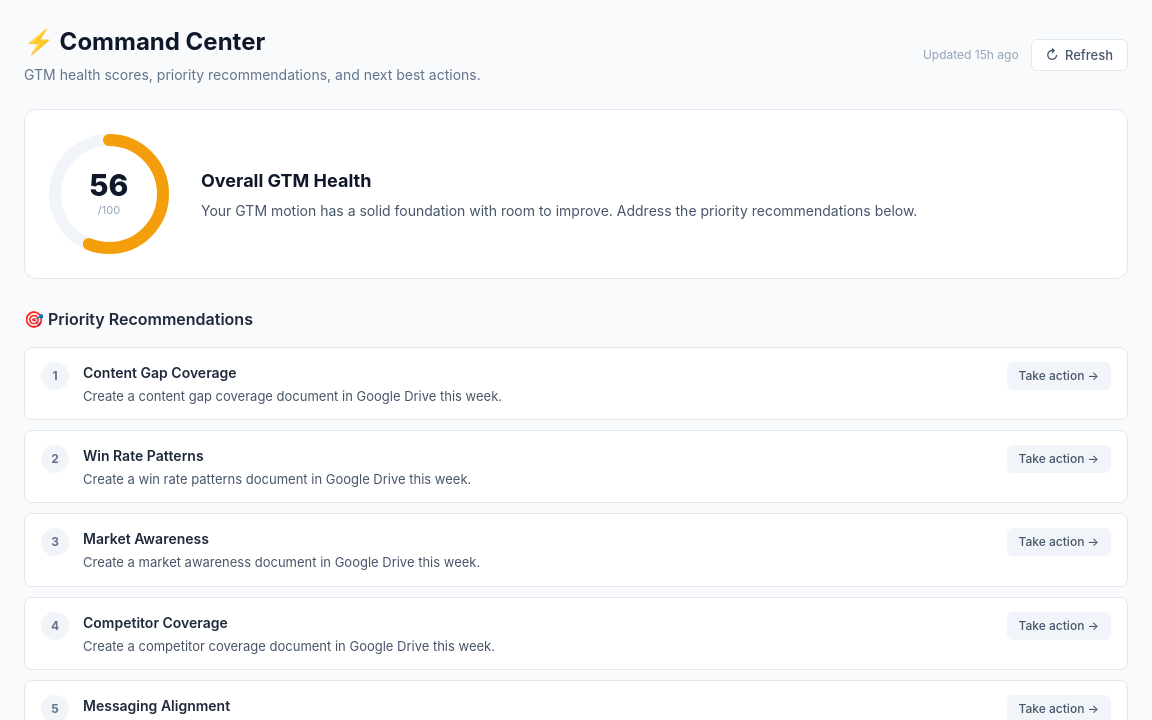
Test: Refresh › disables refresh button while refreshing
The width and height of the screenshot is (1152, 720).
What coordinates should you click on to do the following:
click the button with test id "refresh-button"
I would click on:
 (1079, 54)
Its box is [1031,38,1128,70].
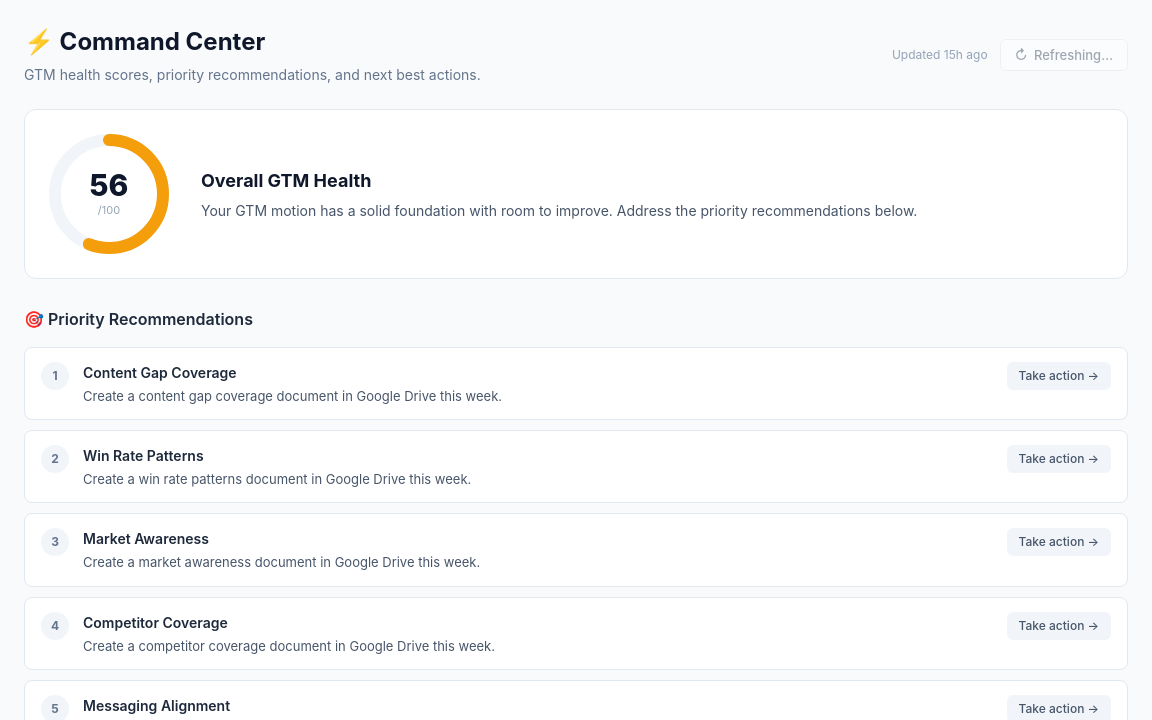
Expected: the button with test id "refresh-button" is disabled, [1000,38,1128,70]
